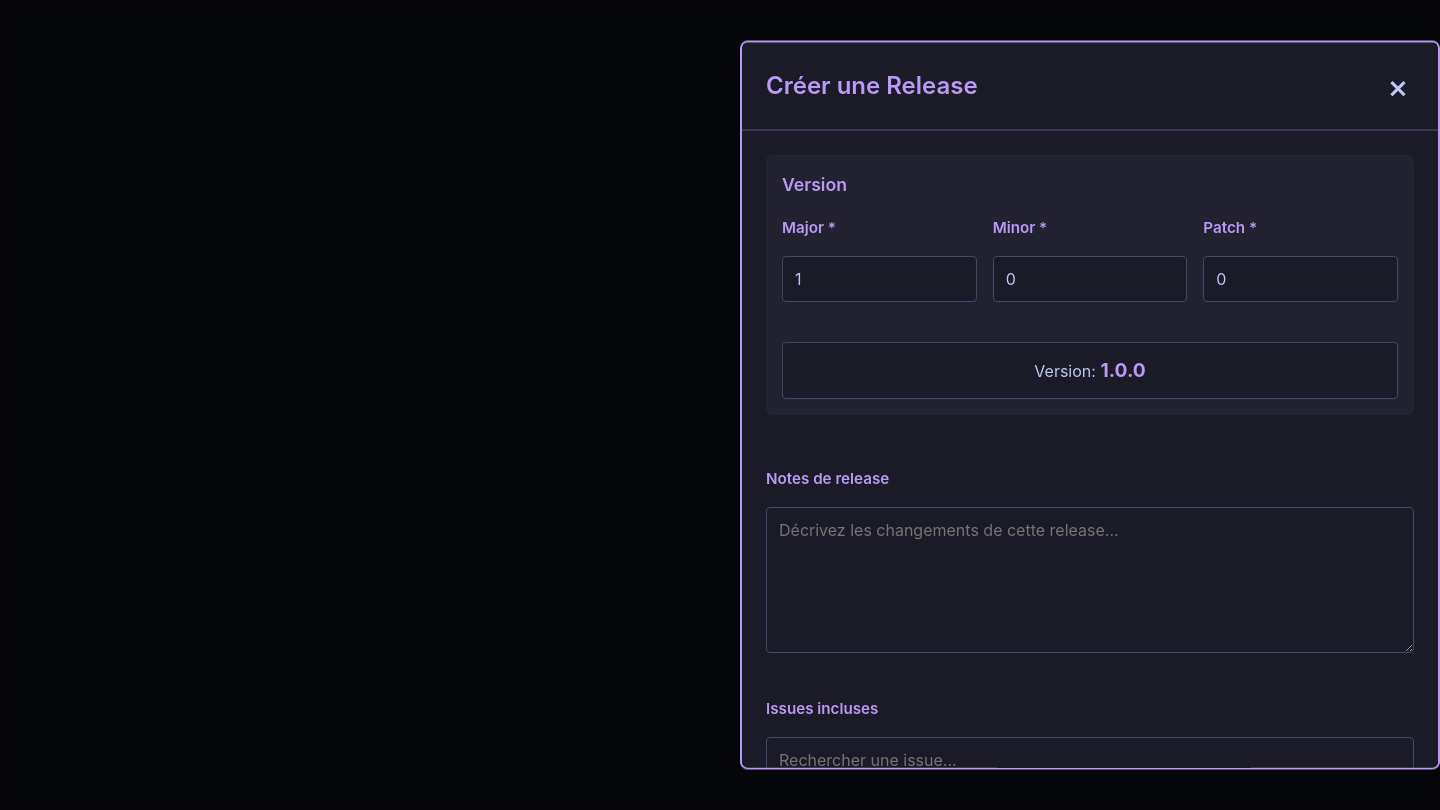
Test: CreateReleaseForm › devrait valider que minor >= 0
This screenshot has width=1440, height=810.
Replace the text in the number field with id "minor" with "-1": (1090, 278) x1=993 y1=255 x2=1187 y2=301
(page scrolled)
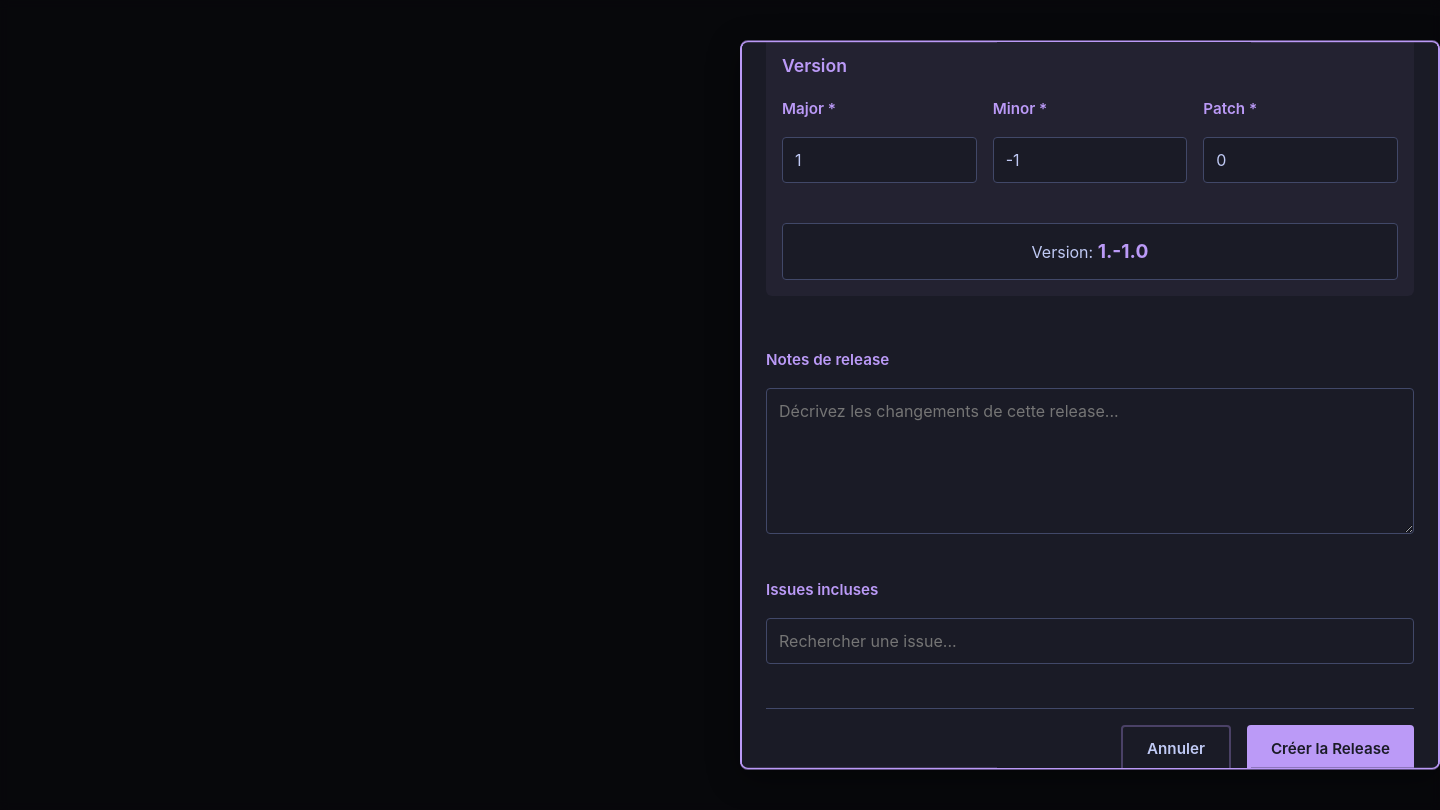
Submit the form, box x1=742 y1=13 x2=1438 y2=797
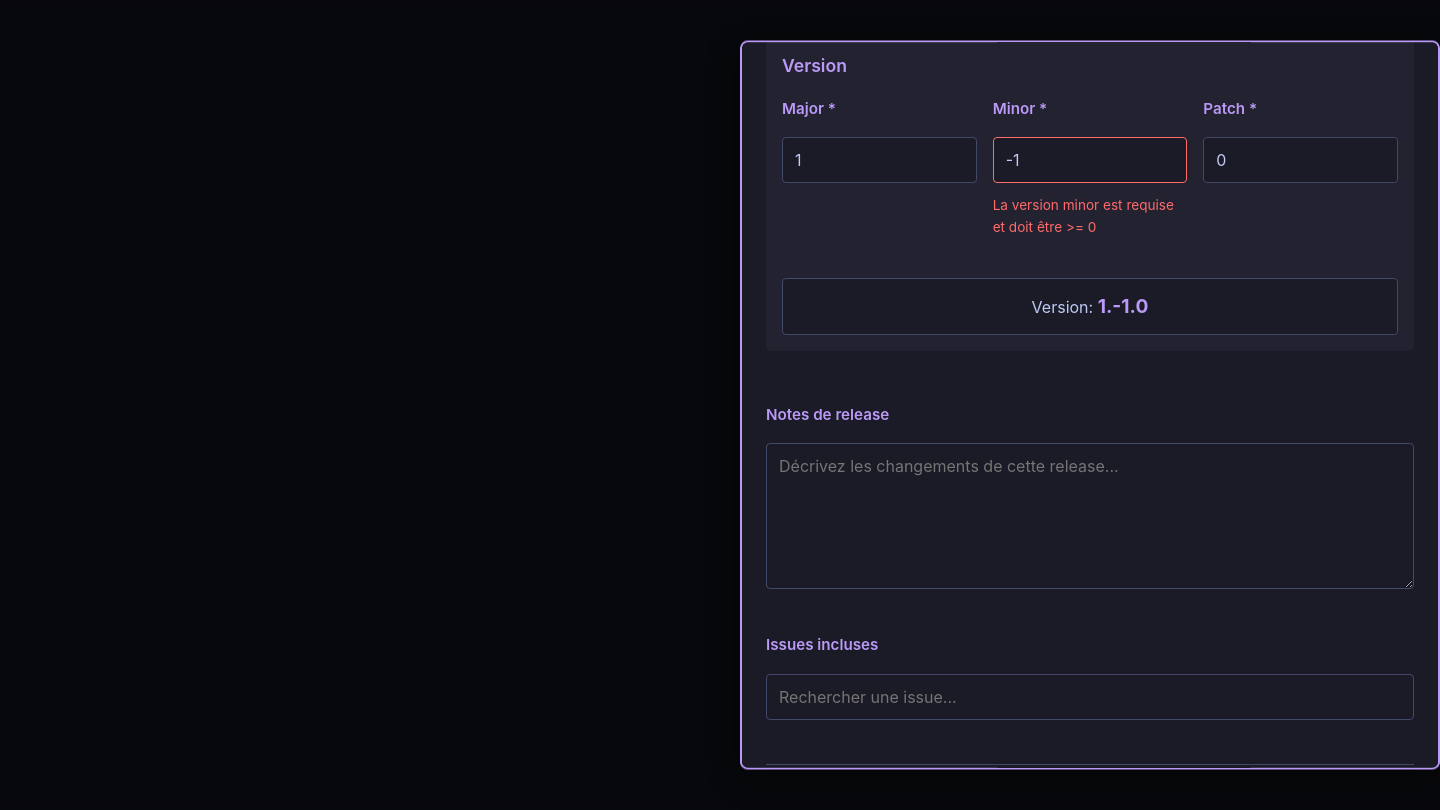
Result: the text with class "error-message" shows "minor" at x1=993 y1=197 x2=1174 y2=235
